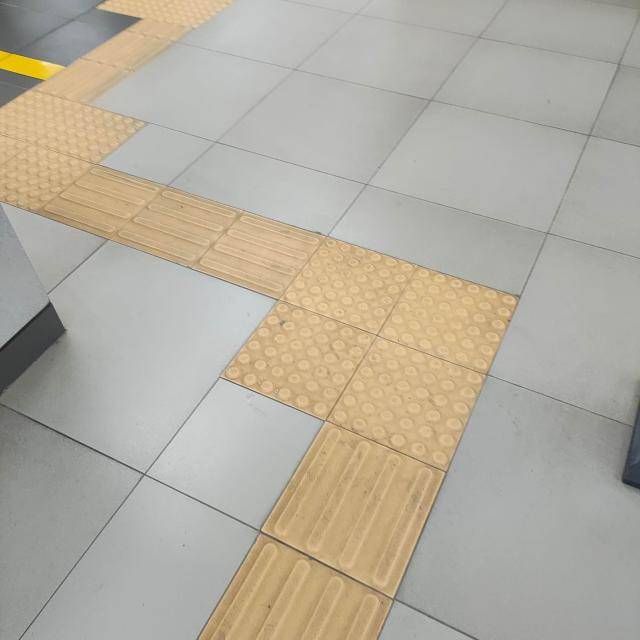kiri: (158, 168, 564, 495)
